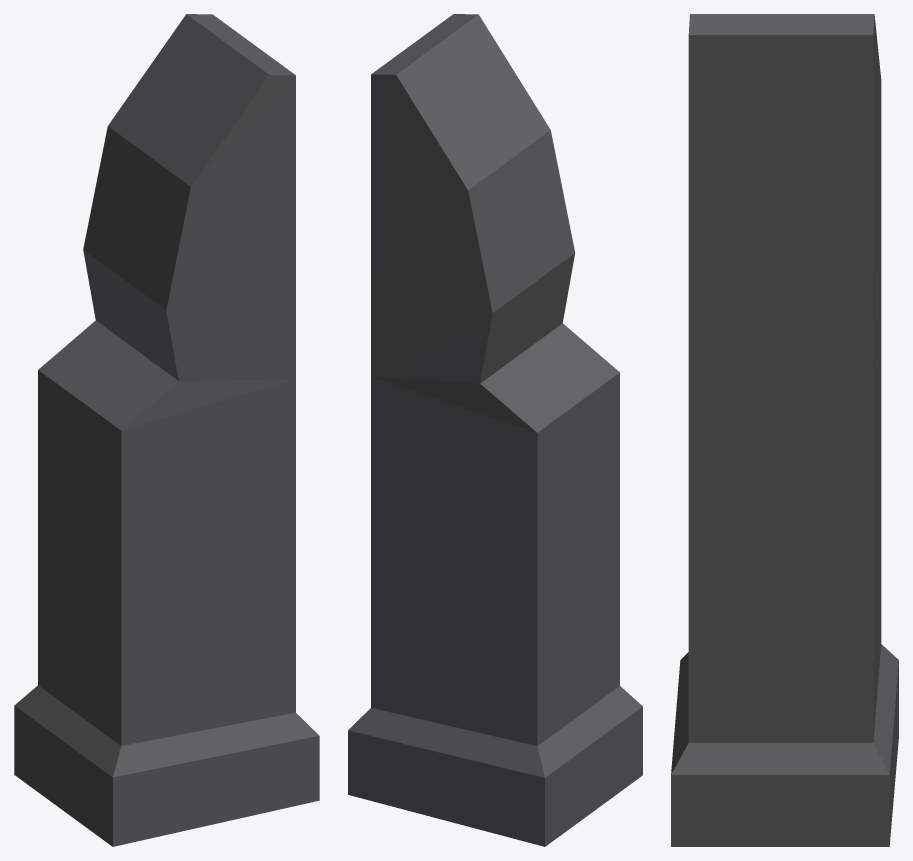
File: throne_acc_00.FBX
3 renders of one model, left to right at view 1: azimuth 30°, elevation 25°; view 2: azimuth 150°, elevation 25°; view 3: azimuth 270°, elevation 25°, orthographic. The views are drawn at different scales.
Visible parts, largest first — view 1: throne_acc_00; view 2: throne_acc_00; view 3: throne_acc_00.
Part boxes in pixels (left/top/right/bottom): throne_acc_00: left=14, top=14, right=319, bottom=846; throne_acc_00: left=348, top=14, right=642, bottom=846; throne_acc_00: left=671, top=14, right=898, bottom=846.
Bounding box in the file's own units: 51.36 × 177 × 45.08.
